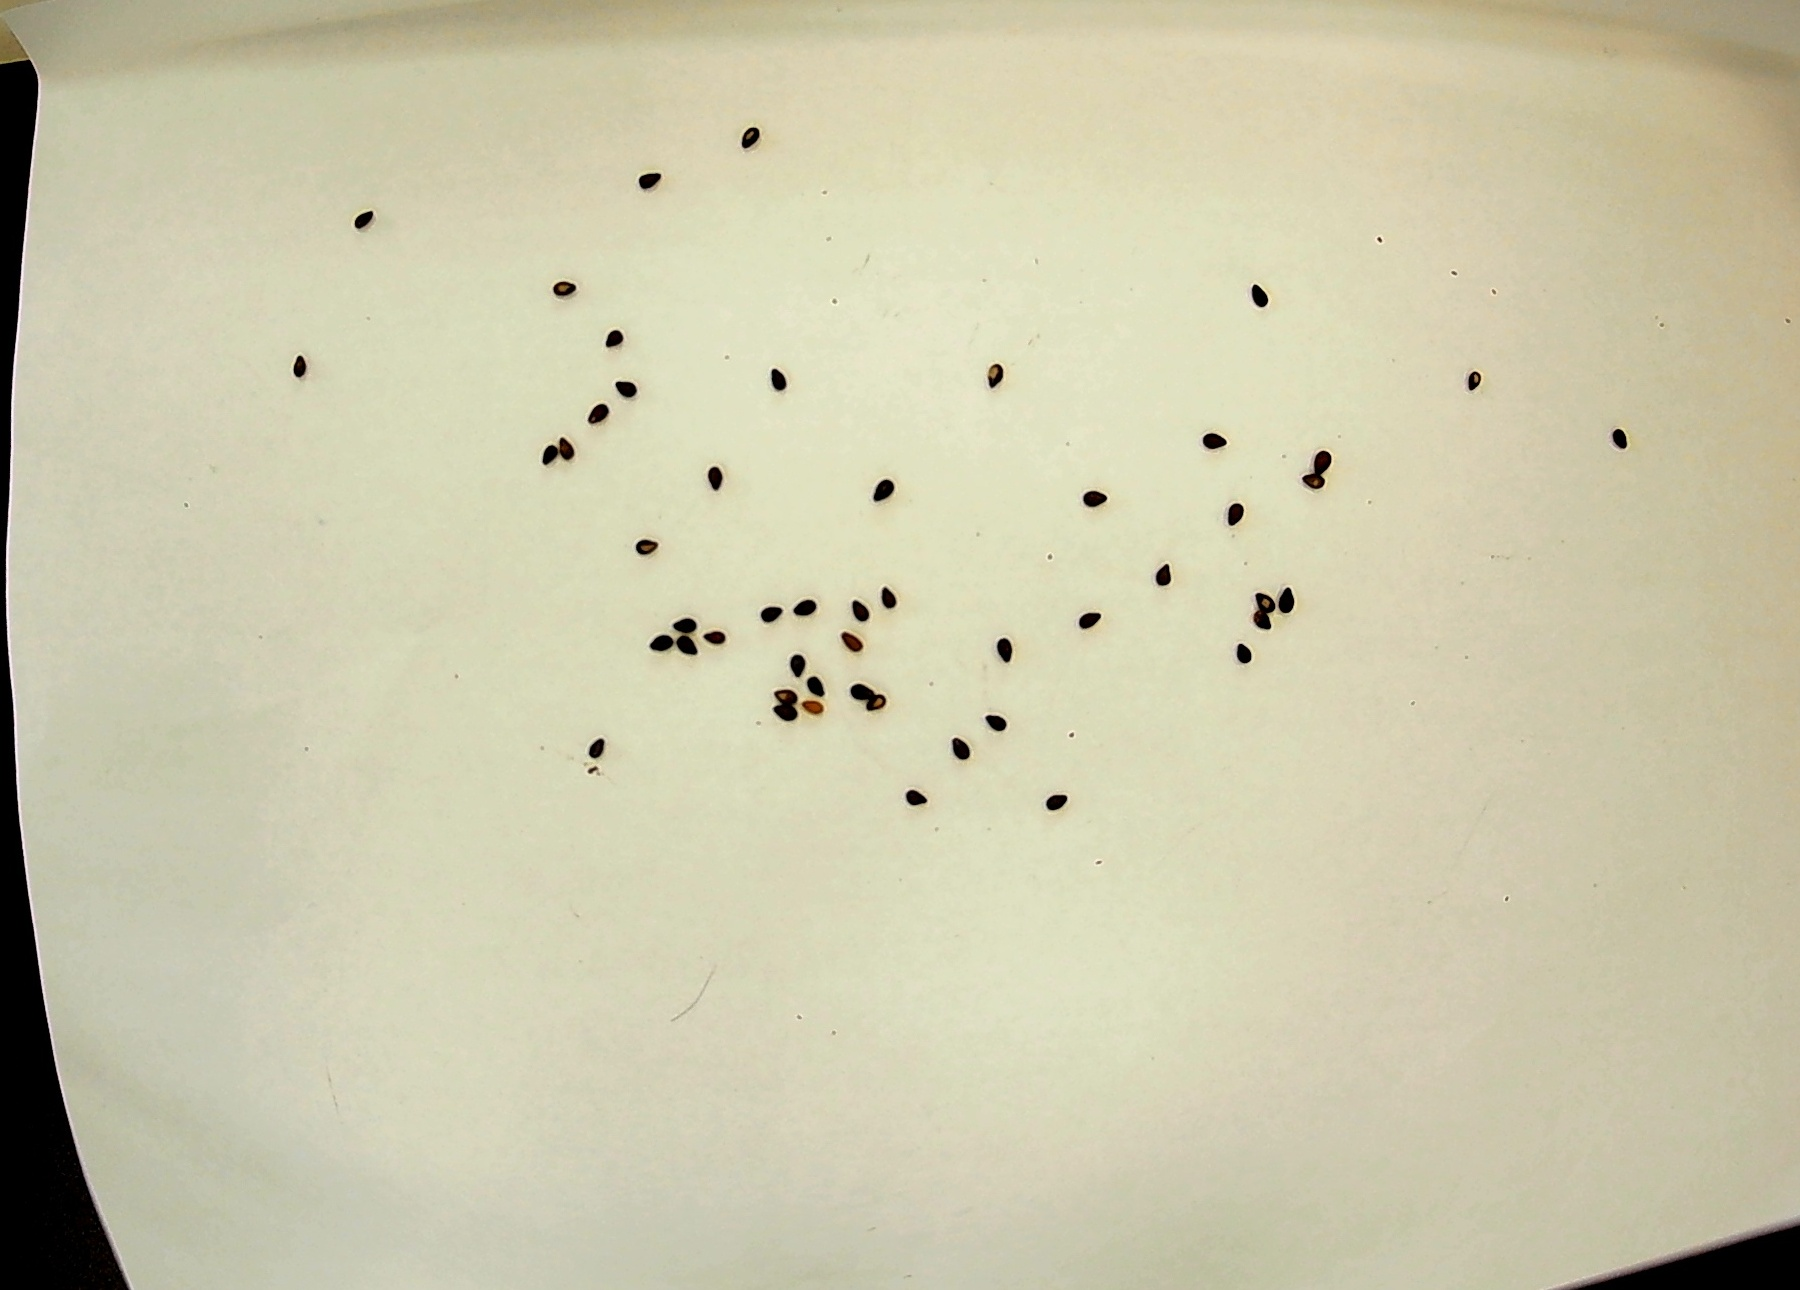sesami: (900, 780, 949, 826), (1139, 554, 1180, 603), (1455, 357, 1499, 403), (1233, 278, 1277, 322), (742, 598, 791, 635), (1187, 424, 1239, 457), (933, 730, 973, 772), (779, 642, 811, 691), (580, 396, 614, 443), (580, 737, 627, 769), (608, 371, 646, 410), (695, 454, 728, 496), (848, 589, 878, 635), (1227, 631, 1266, 665), (633, 518, 661, 564), (791, 584, 822, 625), (975, 362, 1012, 396), (987, 627, 1014, 672), (548, 276, 587, 307), (873, 584, 904, 623), (1207, 497, 1245, 528), (638, 627, 675, 658), (1076, 489, 1115, 518), (1277, 565, 1298, 618), (1077, 596, 1105, 635), (285, 348, 310, 391), (532, 441, 561, 477), (987, 697, 1012, 739), (1042, 780, 1069, 820), (1240, 579, 1273, 611), (759, 705, 801, 729), (735, 123, 765, 156), (668, 638, 705, 665), (804, 699, 834, 730), (801, 676, 834, 704), (762, 685, 802, 708), (1243, 606, 1273, 637), (673, 610, 703, 639), (837, 630, 869, 658), (769, 357, 793, 395), (597, 324, 631, 350), (560, 427, 578, 476), (642, 163, 666, 200), (1287, 468, 1327, 489), (868, 477, 899, 504), (1312, 450, 1340, 477), (851, 669, 873, 704), (868, 699, 894, 727), (1607, 426, 1633, 452), (705, 624, 728, 651), (340, 209, 373, 228)
